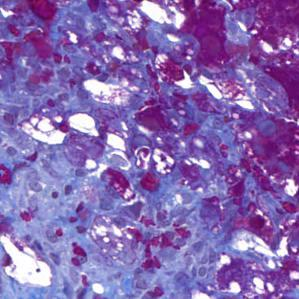ballooning: (4, 233, 55, 291), (17, 113, 69, 150)
